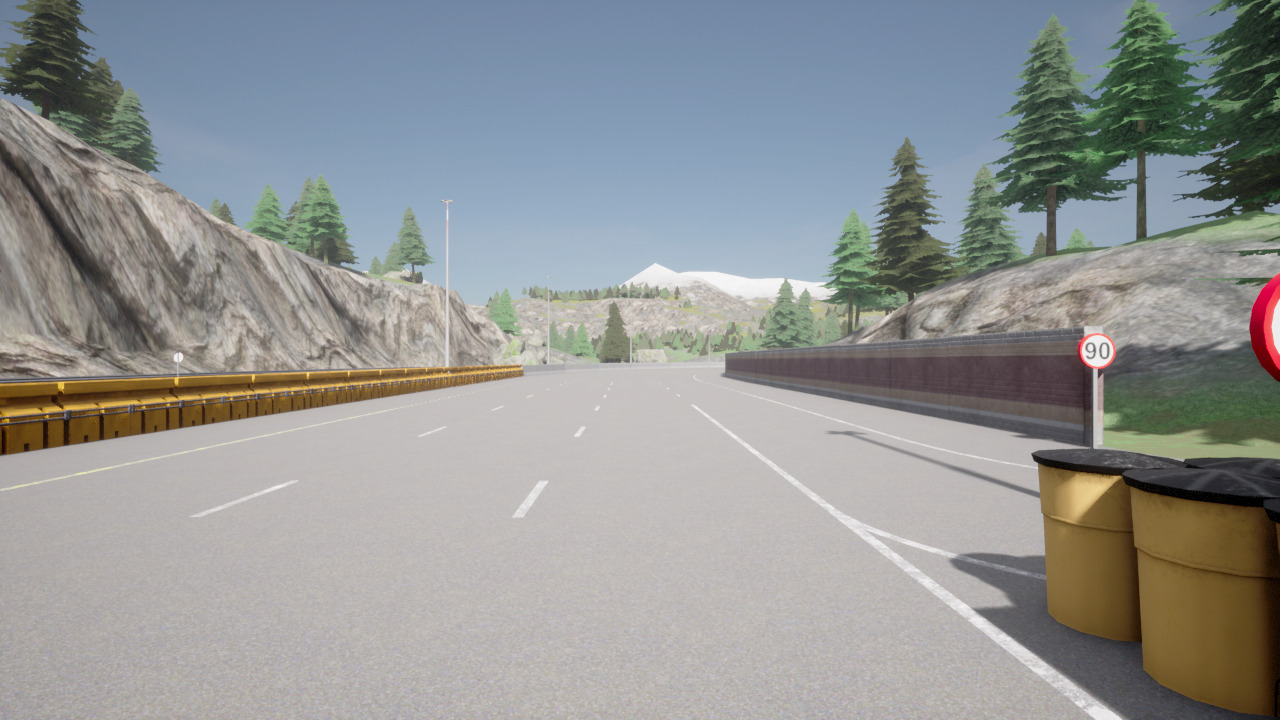sl90: (1077, 332, 1117, 370)
